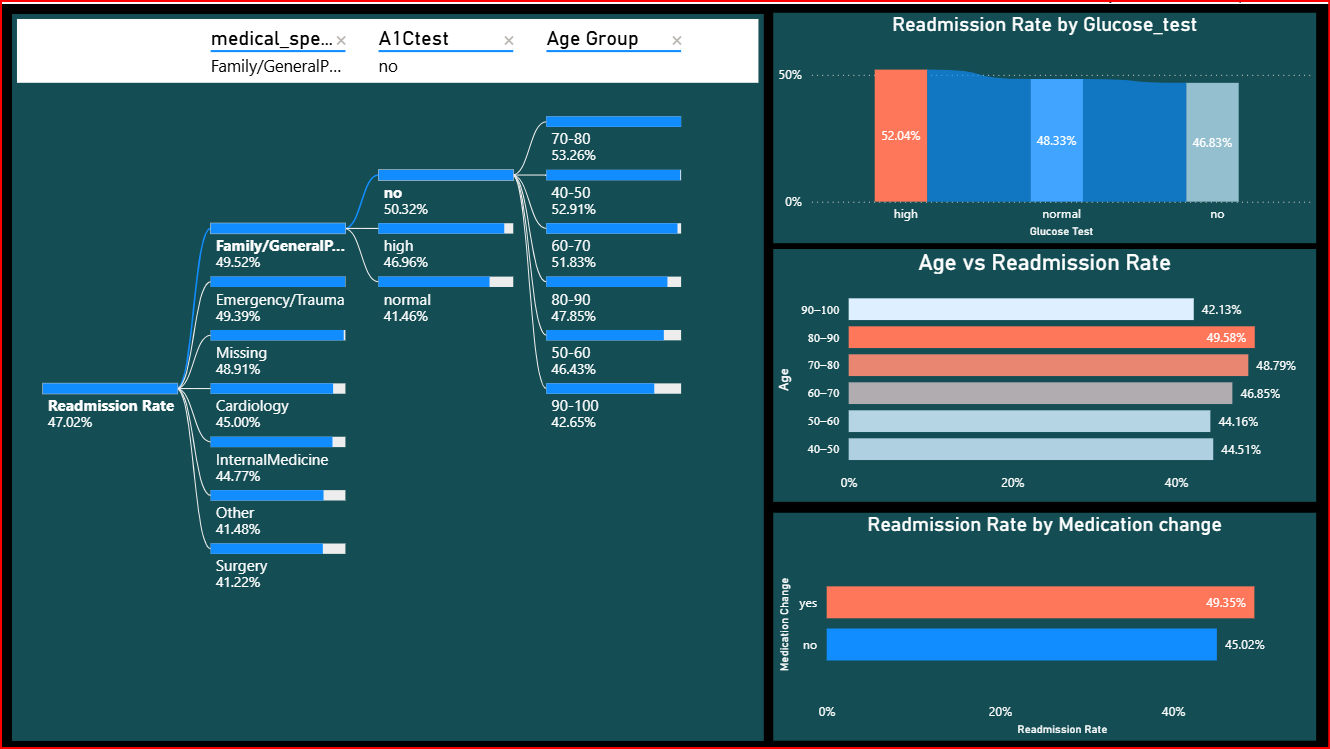

The dashboard page shown, as its layout file describes it:
{"tool":"powerbi","page":{"name":"Drivers and Analysis Review","canvas":[1280,720],"ordinal":1},"visuals":[{"type":"clusteredBarChart","title":"Age vs Readmission Rate","fields":{"Category":["Raw patients.Pat_age"],"Y":["_Raw Encounters.Readmission Rate by A1C_test"]},"box":[744,237,524.1,244.3],"z":0},{"type":"ribbonChart","title":"Readmission Rate  by Glucose_test","fields":{"Category":["RAW_Diagnosis.glucose_test"],"Y":["_Raw Encounters.Readmission Rate by A1C_test"]},"box":[744,8.6,524.1,222.3],"z":1000},{"type":"decompositionTreeVisual","fields":{"Analyze":["_Raw Encounters.Readmission Rate"],"ExplainBy":["_Raw Encounters.medical_specialty","RAW_Diagnosis.A1Ctest","Raw patients.Age Group"]},"box":[9.8,9.8,725.6,701.2],"z":2000},{"type":"barChart","title":"Readmission Rate by Medication change","fields":{"Category":["RAW_Diagnosis.change"],"Y":["_Raw Encounters.Readmission Rate"]},"box":[744,491.1,524.1,219.9],"z":3000}]}

Visuals, with their boxes in screenshot pixels (x1, y1, x2, y2), scaled from the page's 1280x720 canvas onto the 1330x749 screenshot:
"Age vs Readmission Rate" clusteredBarChart: detection(773, 247, 1318, 501)
"Readmission Rate  by Glucose_test" ribbonChart: detection(773, 9, 1318, 240)
decompositionTreeVisual - _Raw Encounters.Readmission Rate x _Raw Encounters.medical_specialty: detection(10, 10, 764, 740)
"Readmission Rate by Medication change" barChart: detection(773, 511, 1318, 740)
